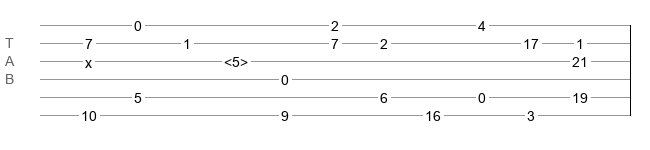0: (134, 18, 142, 28), (281, 72, 289, 82), (478, 90, 486, 100)
1: (183, 36, 191, 46), (576, 36, 584, 46)
10: (81, 108, 97, 118)
16: (425, 108, 441, 118)
17: (523, 36, 539, 46)
19: (572, 90, 588, 100)
2: (331, 18, 339, 28), (380, 36, 388, 46)
21: (572, 54, 588, 64)
3: (527, 108, 535, 118)
4: (478, 18, 486, 28)
5: (134, 90, 142, 100)
6: (380, 90, 388, 100)
7: (85, 36, 93, 46), (331, 36, 339, 46)
9: (281, 108, 289, 118)
harmonic: (224, 54, 248, 64)
x: (85, 55, 92, 63)
